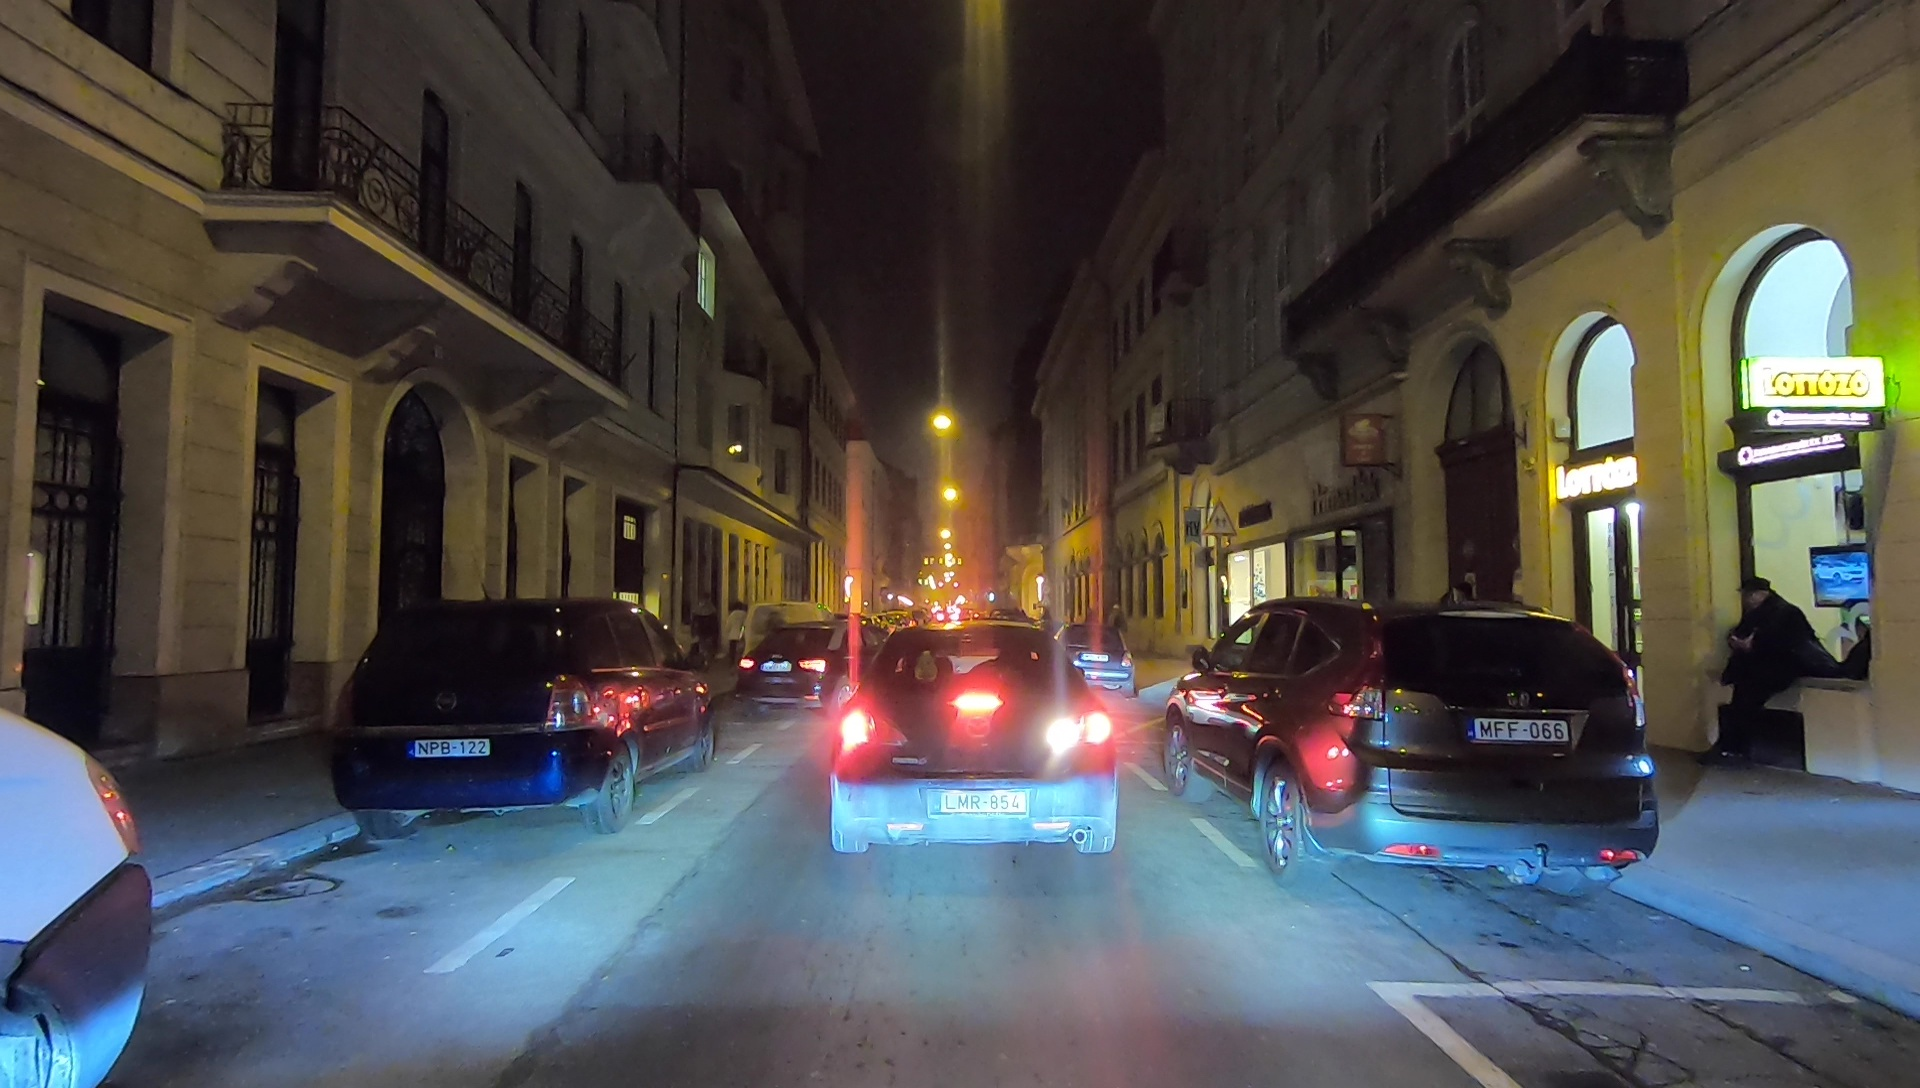person: (1717, 580, 1814, 767)
